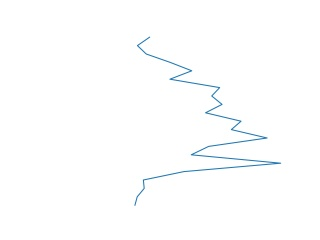floodSwamp: (129, 37, 284, 209)
